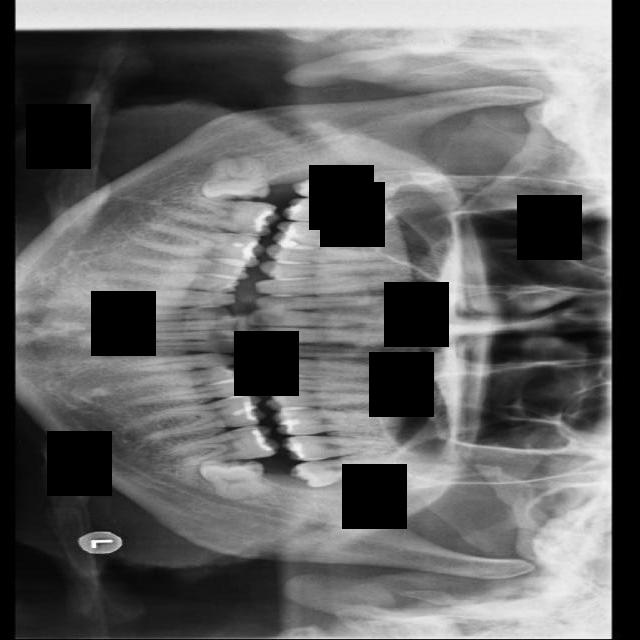3M ESPE Implant: (290, 169, 402, 207)
52: (197, 223, 267, 272), (205, 387, 267, 438), (222, 418, 282, 469), (219, 195, 281, 241), (281, 194, 335, 226), (272, 407, 325, 436), (272, 220, 322, 250), (279, 435, 327, 461)
73: (64, 604, 77, 608)
BioHorizons Implant: (281, 435, 392, 462)
BioLife Implant: (287, 453, 404, 490)
Biomet 3i Implant: (197, 458, 264, 502)
Blue Sky Bio Implant: (163, 422, 280, 469)
Caries: (281, 197, 393, 223)
Implant: (160, 193, 280, 238)
Keystone Dental Implant: (198, 155, 270, 203)
